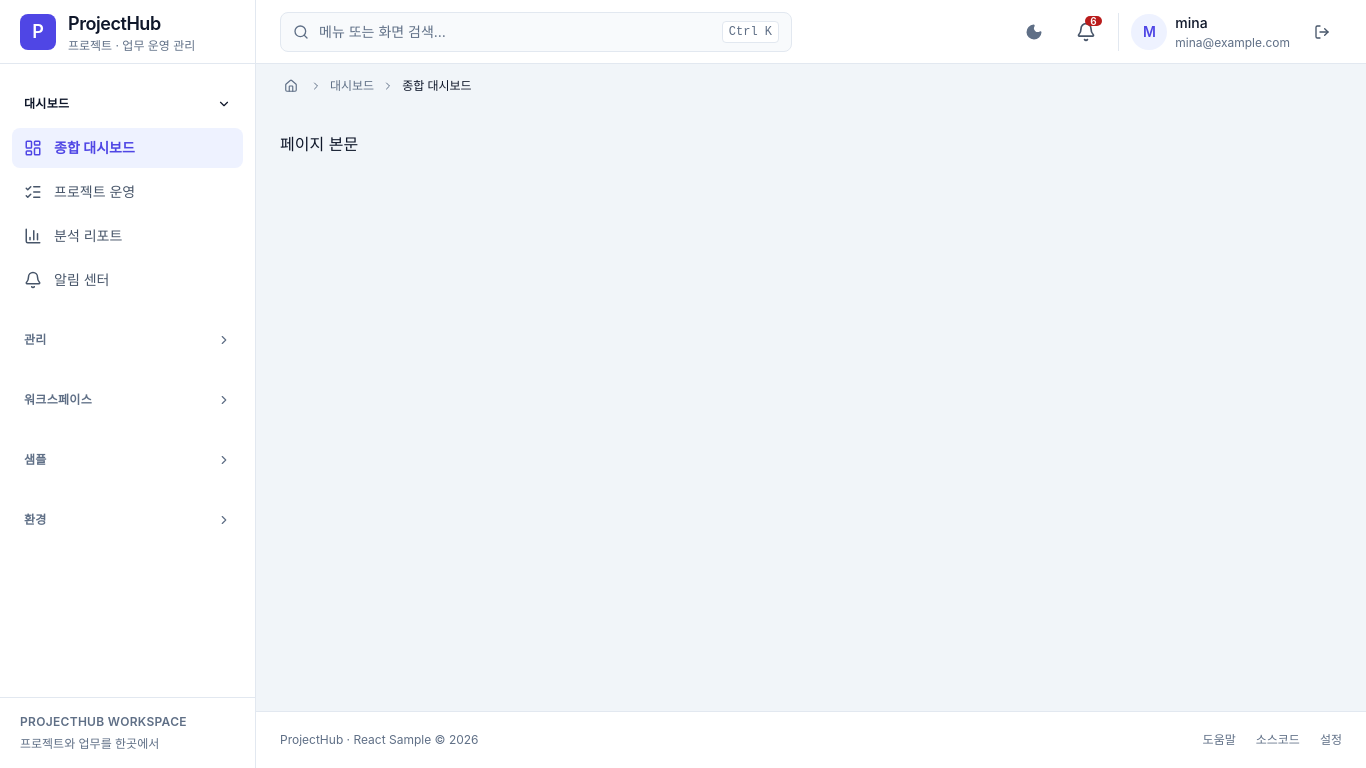
Test: authenticated application shell › 검색 단축키와 방향키·Enter로 화면을 이동한다
The width and height of the screenshot is (1366, 768).
Expected: the element showing "페이지 본문" is shown, [280,134,358,154]
Type keys "{Control>}k{/Control}"
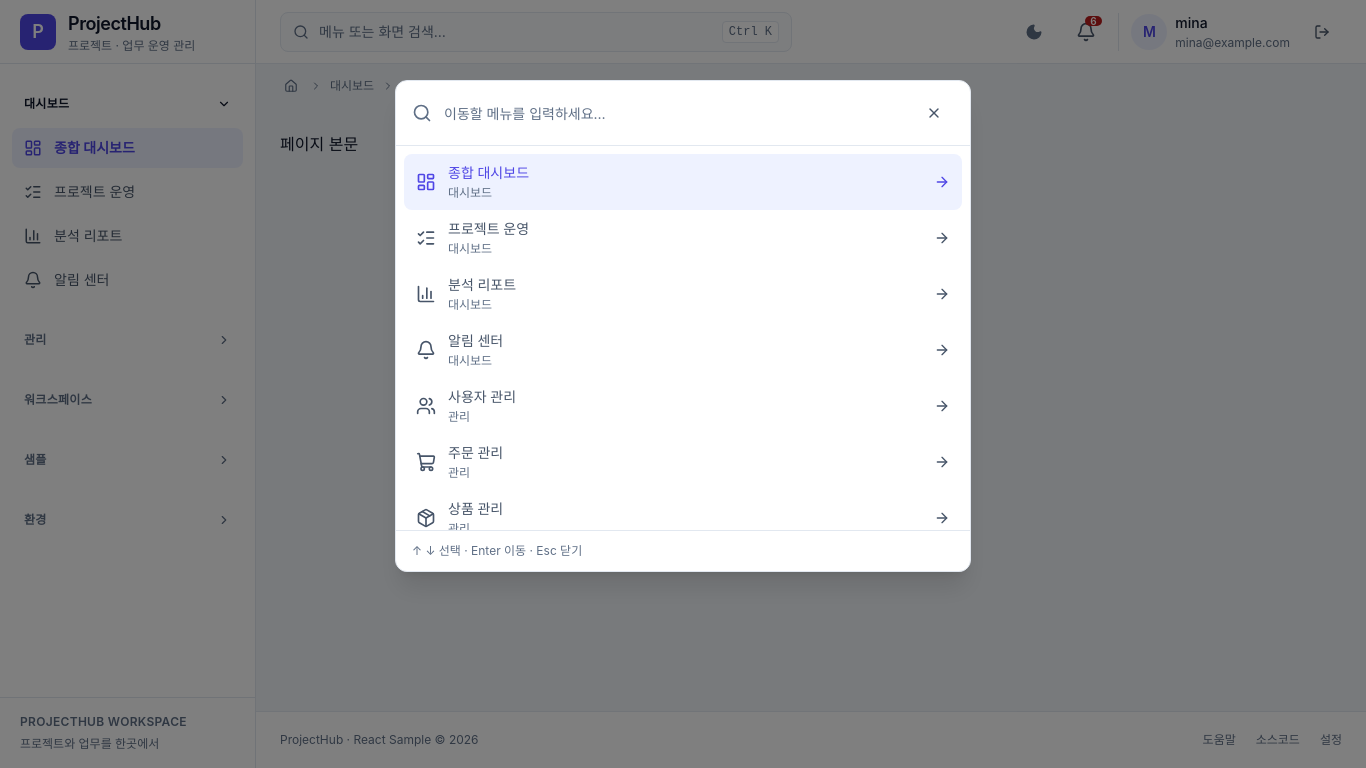
Type "프로젝트" into the dropdown named "메뉴 및 화면 검색" at (673, 113), box [444,93,902,133]
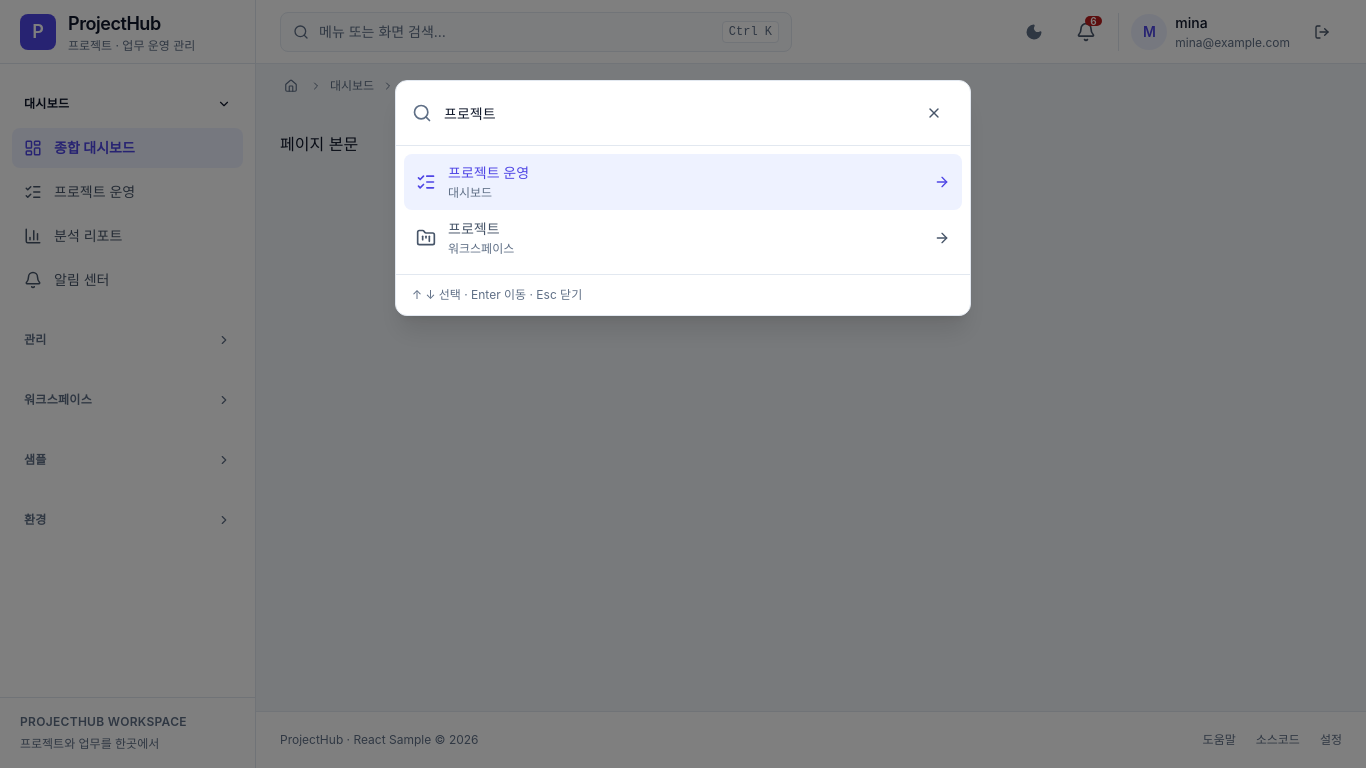
Result: the number of options is 2 at [404,154,962,210]; [404,210,962,266]
Press Arrowdown Enter
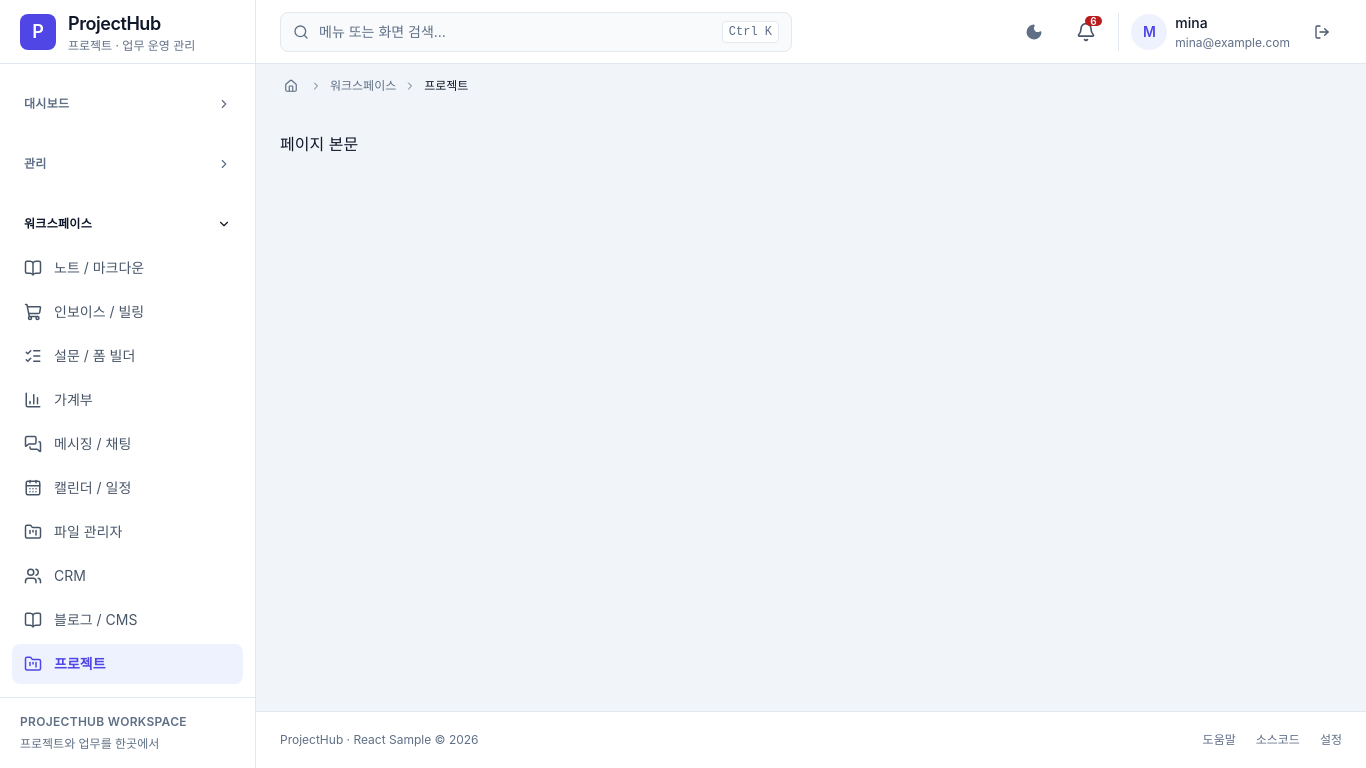
Result: the dialog is gone
